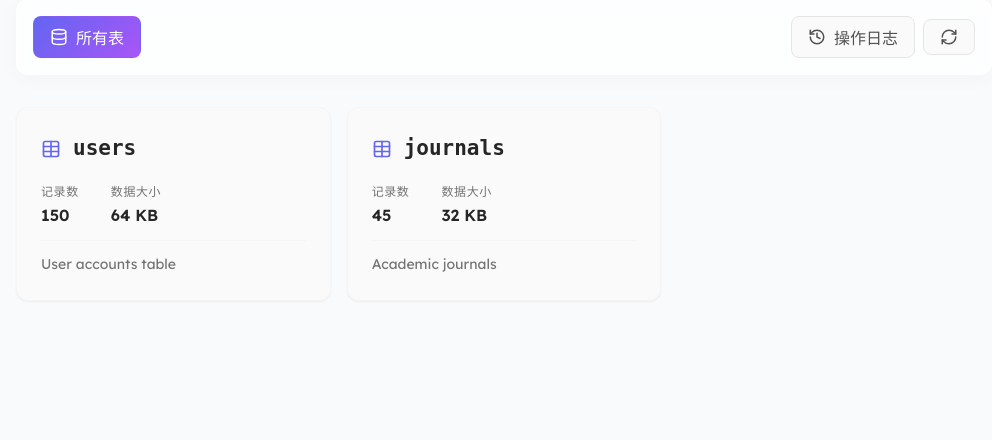
DatabaseManager › displays table data with rows
Expected: the text "users" is shown, [73,132,136,166]
Click the text "users".
click(173, 204)  # box [16,107,331,301]
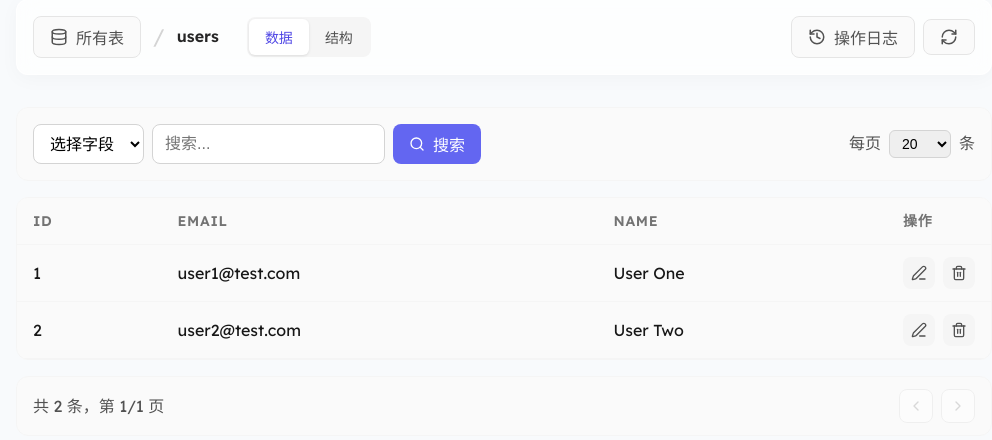
Expected: the text "user1@test.com" is shown, [178,263,300,283]
Expected: the text "user2@test.com" is shown, [178,320,301,340]
Expected: the text "User One" is shown, [614,263,685,283]
